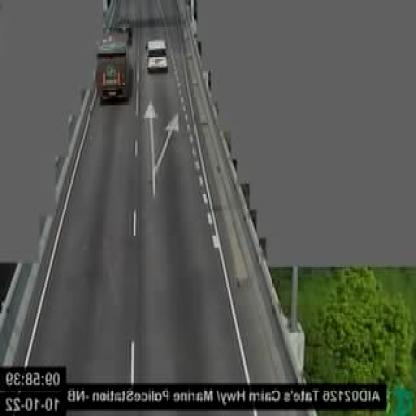Car: (147, 37, 167, 70)
Truck: (96, 19, 132, 102)
